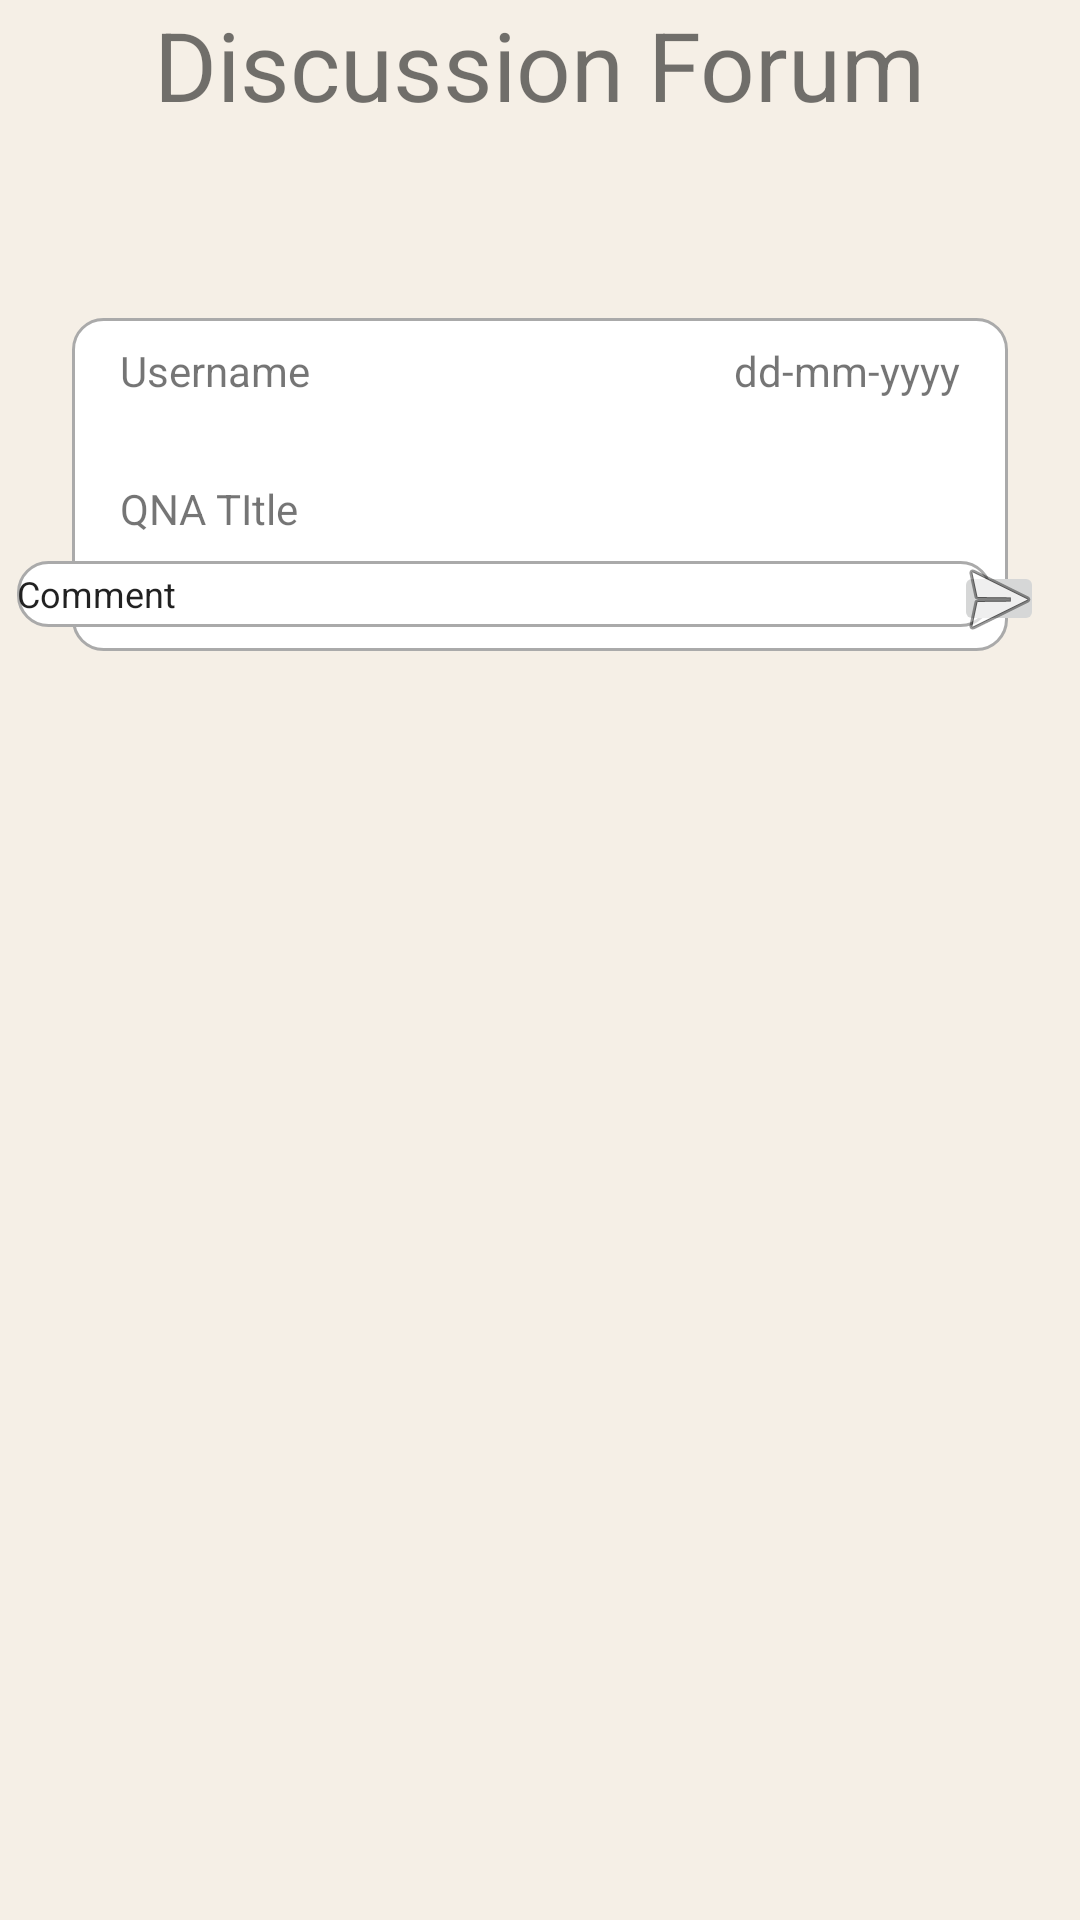

Icon click points for this 1080 × 1920 phone screenshot, format point (x, y):
send: point (999, 598)
